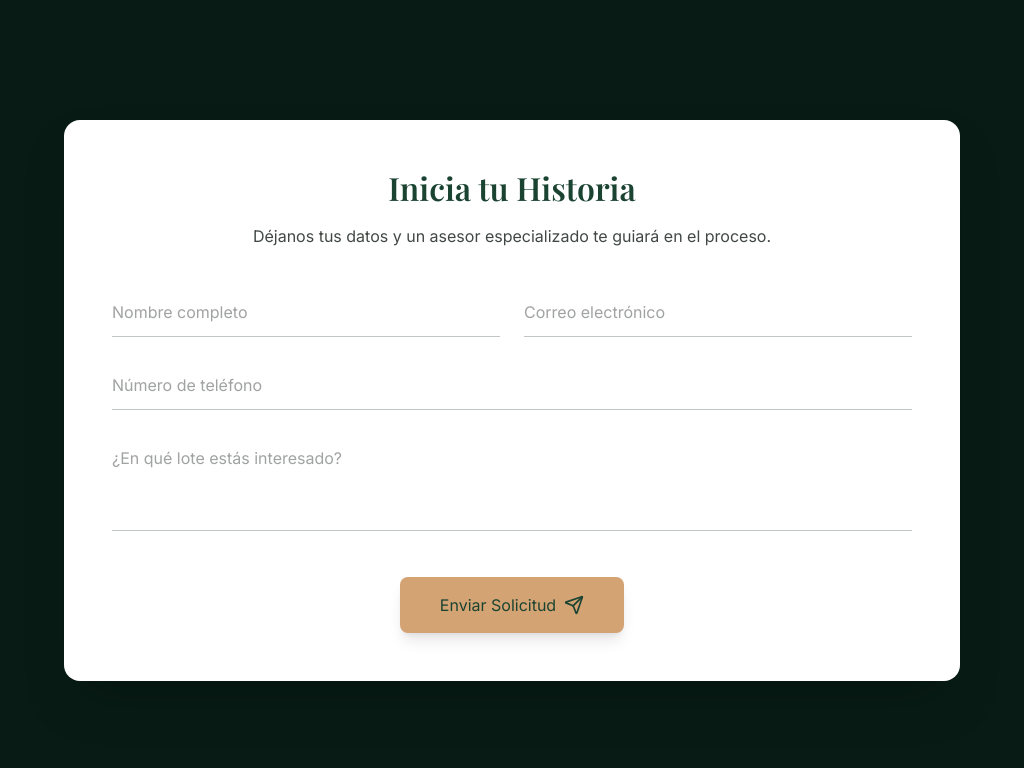
Test: ContactForm › submits the form successfully
Step 1. Type "Juan Pérez" into the field with placeholder "Nombre completo" → (306, 312), box left=112, top=288, right=500, bottom=337
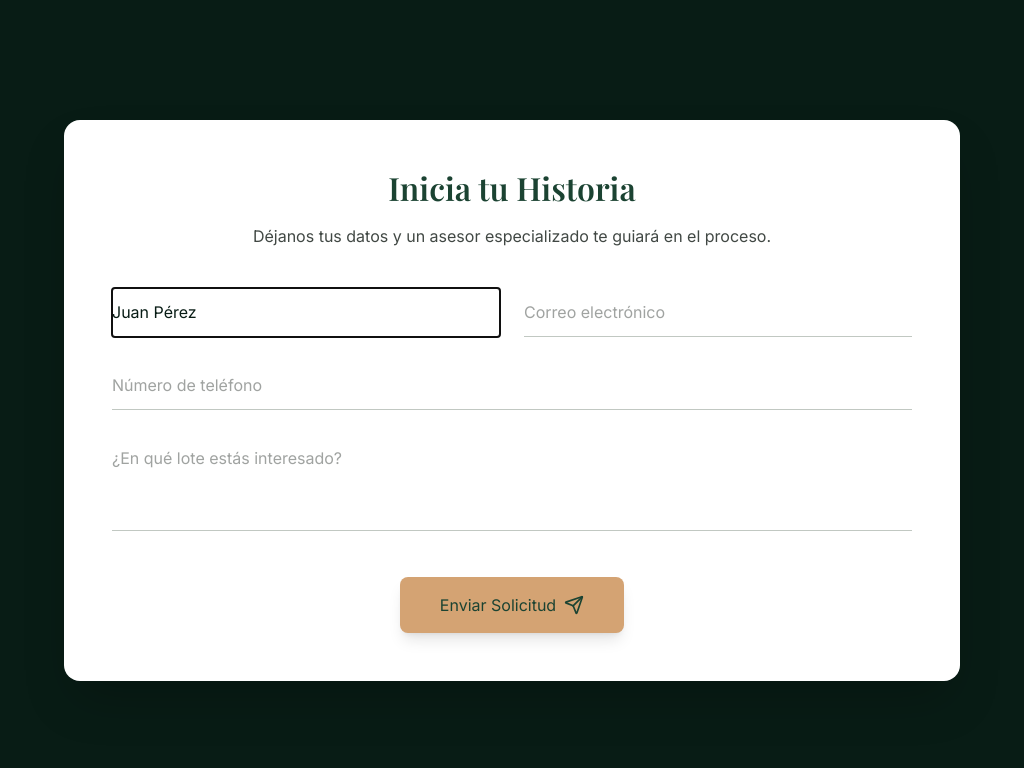
Step 2. Type "juan@example.com" into the field with placeholder "Correo electrónico" → (718, 312), box left=524, top=288, right=912, bottom=337
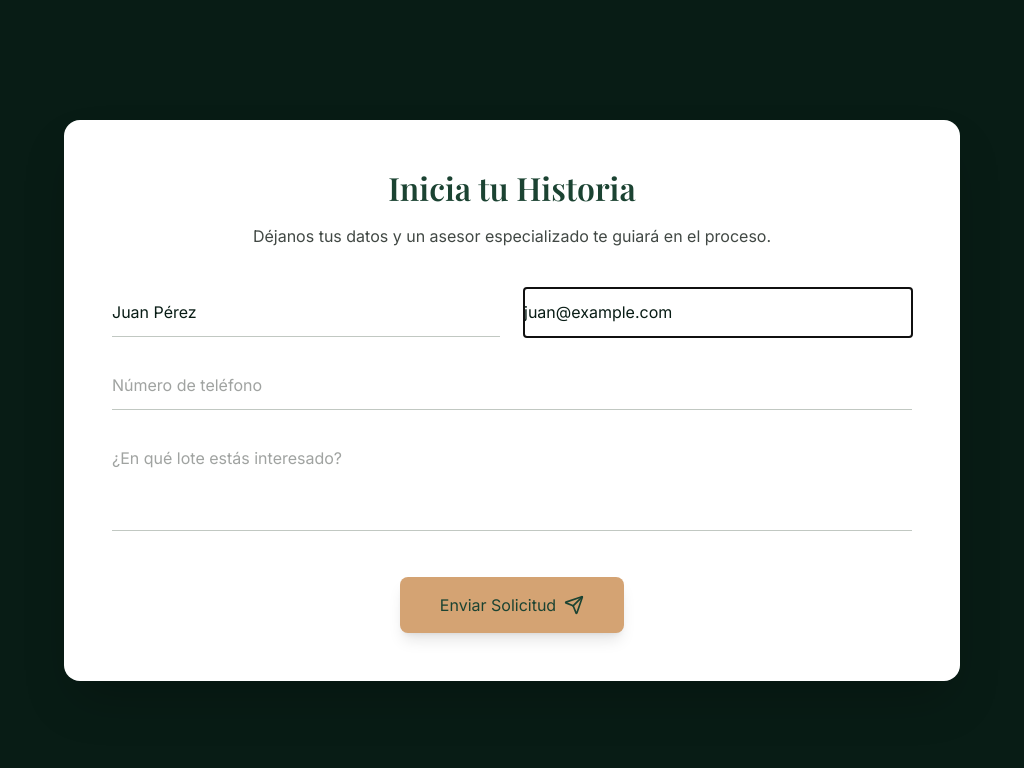
Step 3. Type "3001234567" into the field with placeholder "Número de teléfono" → (512, 386), box left=112, top=361, right=912, bottom=410
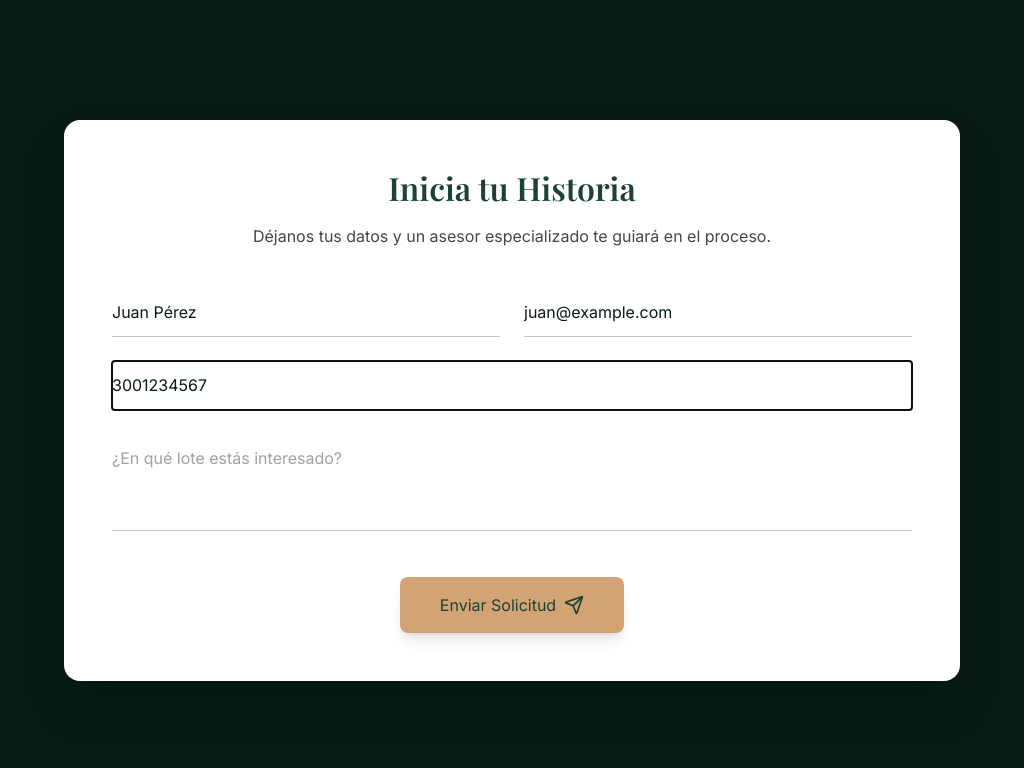
Step 4. Click the button "Enviar Solicitud" → (512, 605), box left=400, top=577, right=624, bottom=633
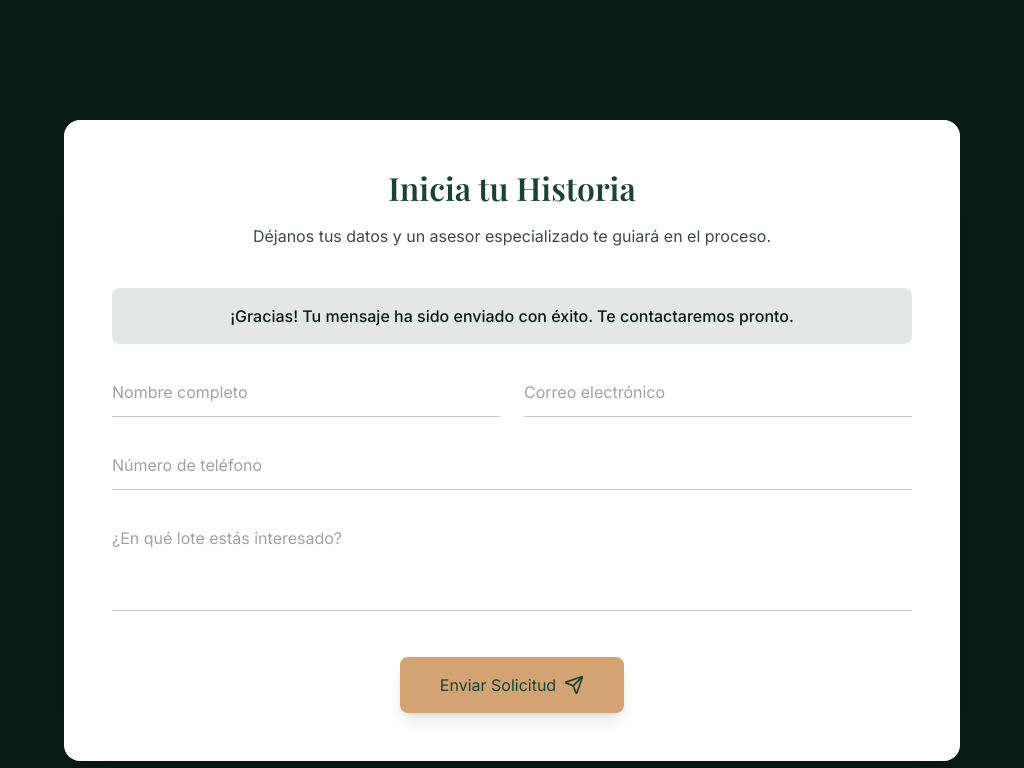
Result: the text "Tu mensaje ha sido enviado con éxito" is shown at left=230, top=306, right=794, bottom=326
